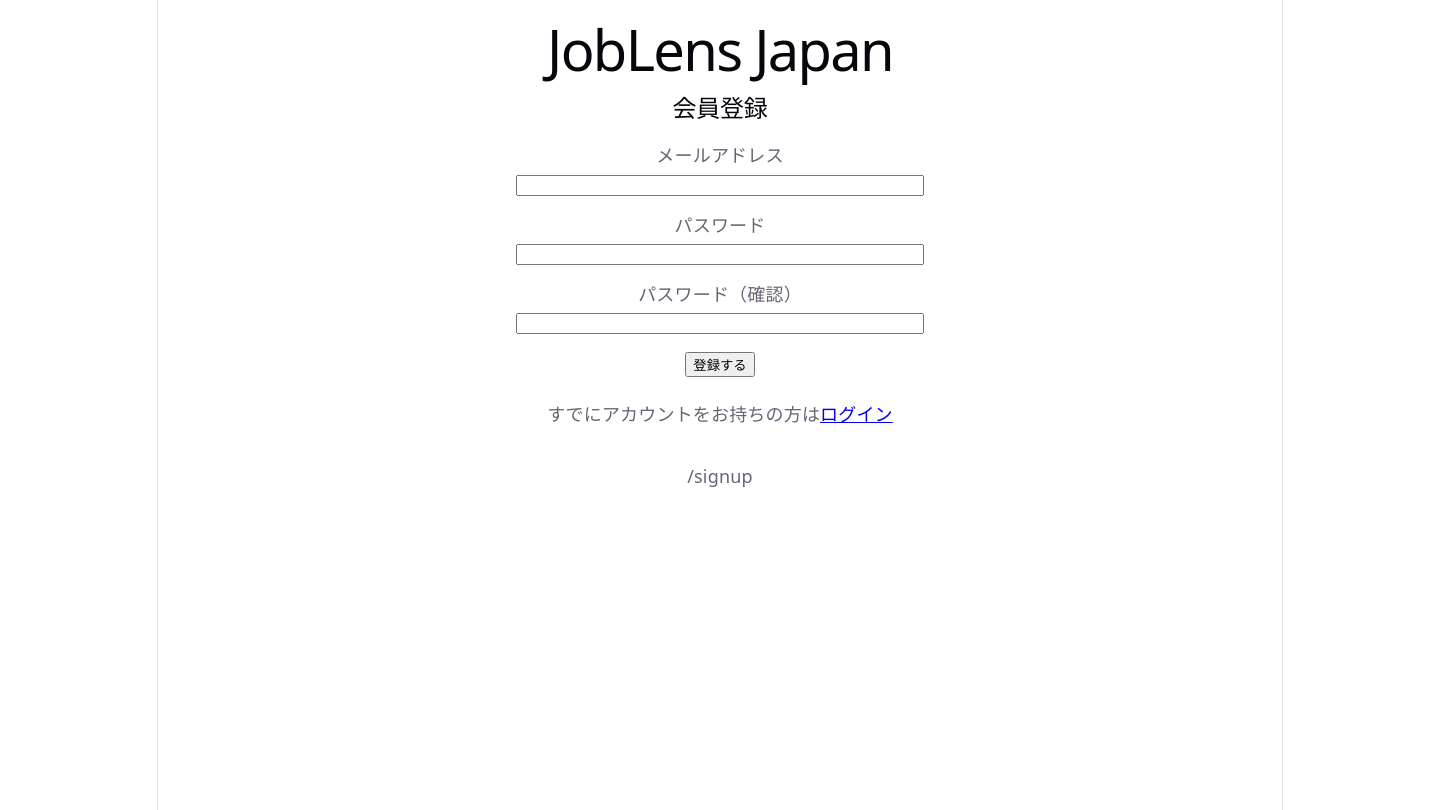
Test: 画面から通信までのつながり › 회원가입 화면에서 가입하면 실제 요청이 올바르게 나가고, 이후 요청에 새 사용자 ID가 붙는다
In the field labelled "メールアドレス": (720, 185) [516,174,924,196], type "new@example.com"
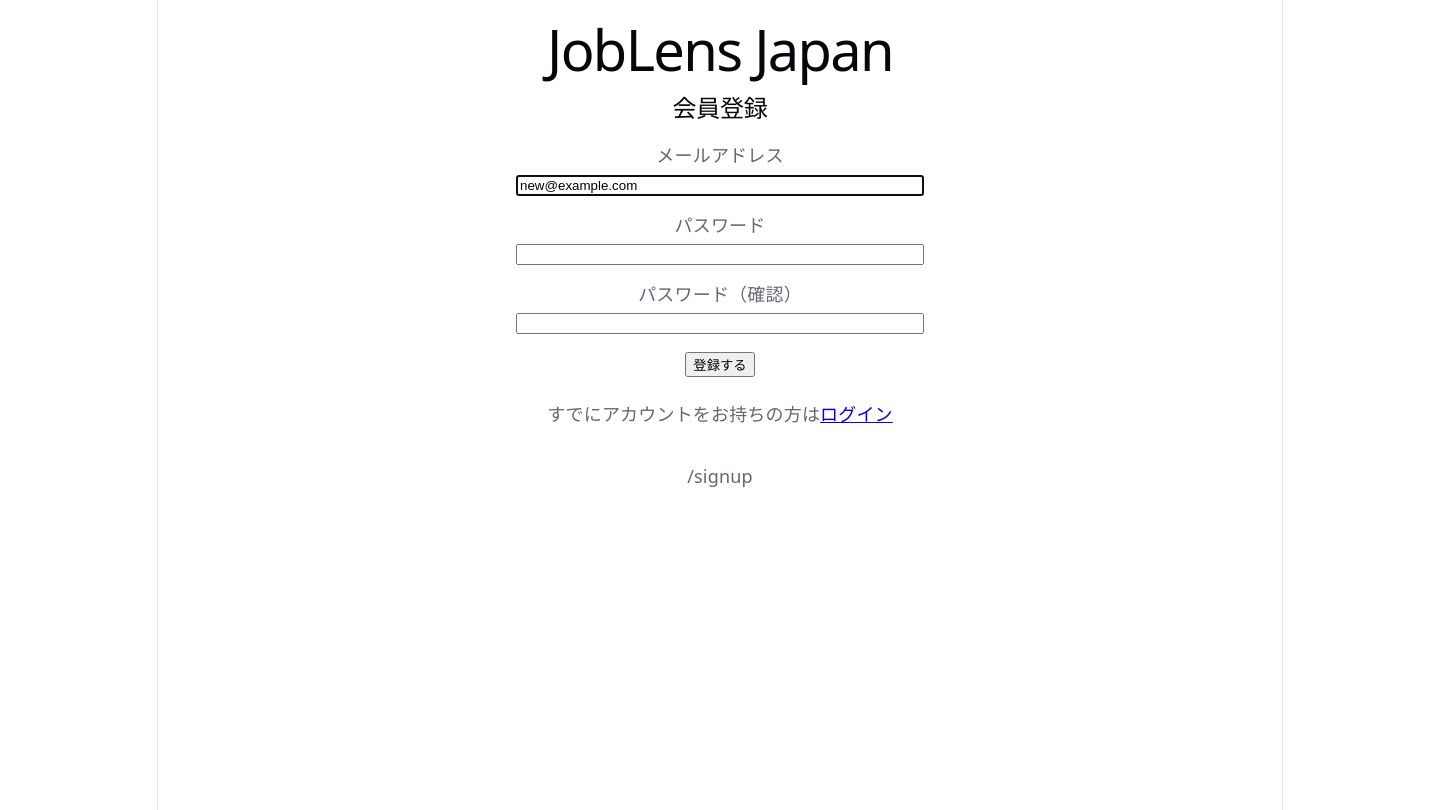
In the password field labelled "パスワード": (720, 254) [516,244,924,265], type "password123"
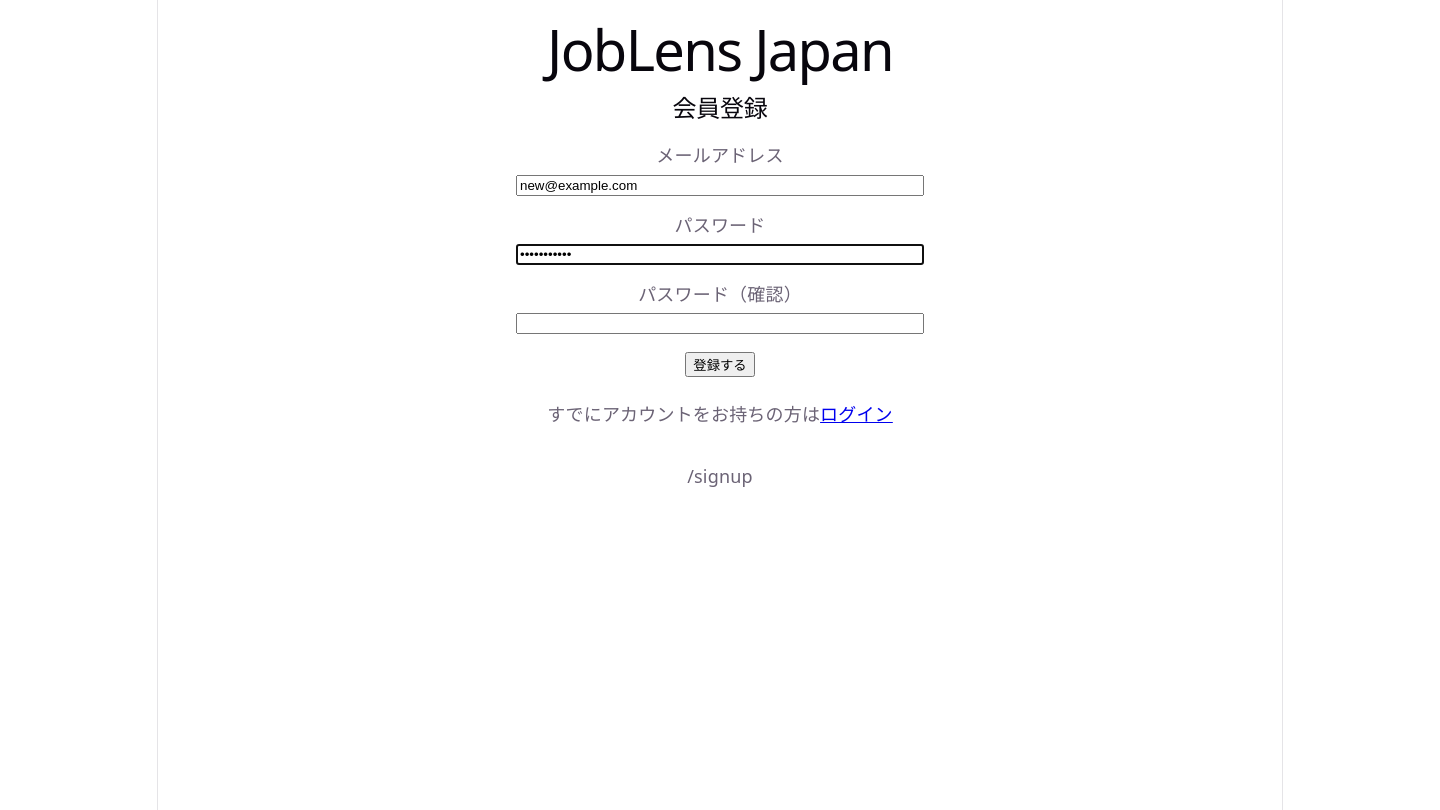
In the password field labelled "パスワード（確認）": (720, 323) [516,313,924,334], type "password123"
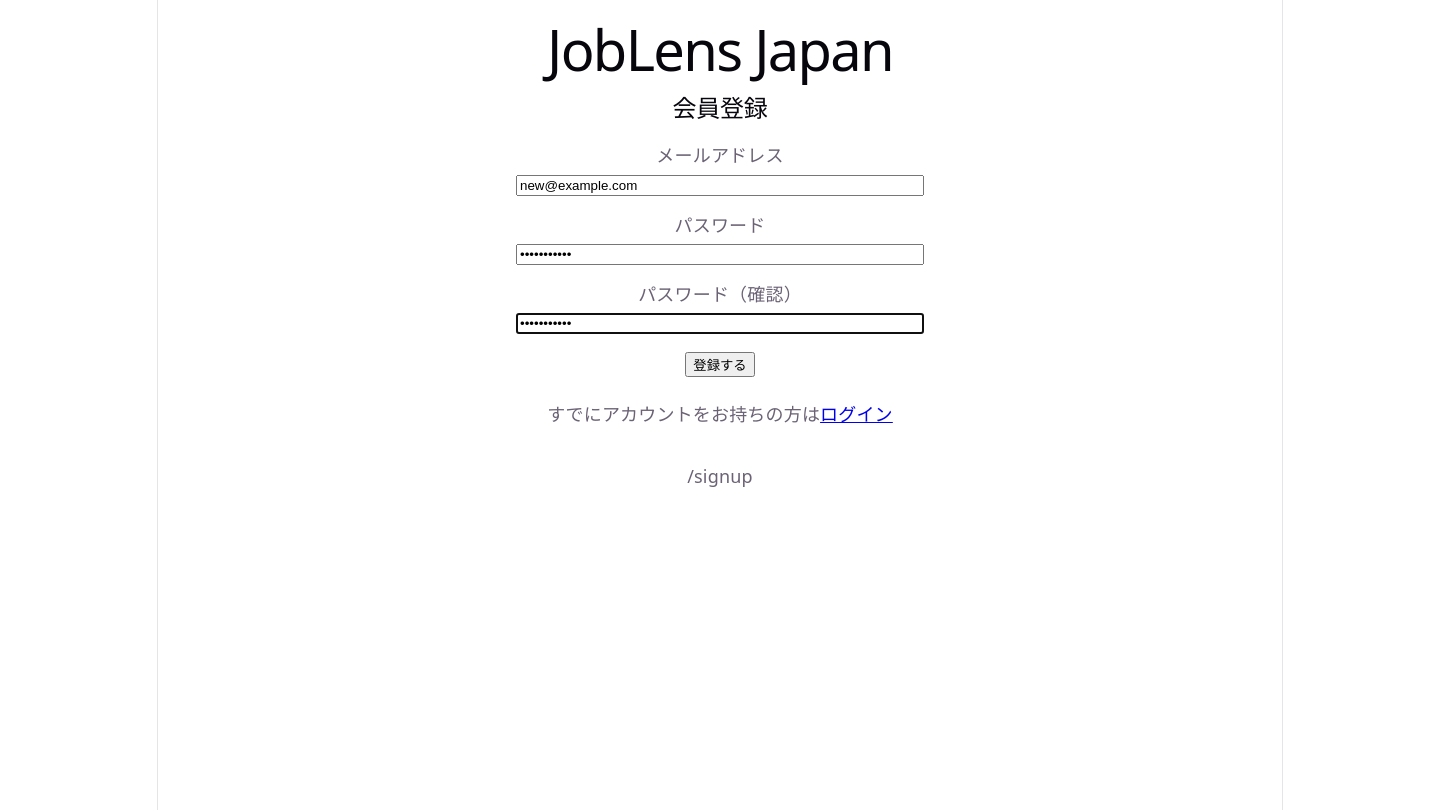
Click the button "登録する": (720, 364) [685,352,755,377]
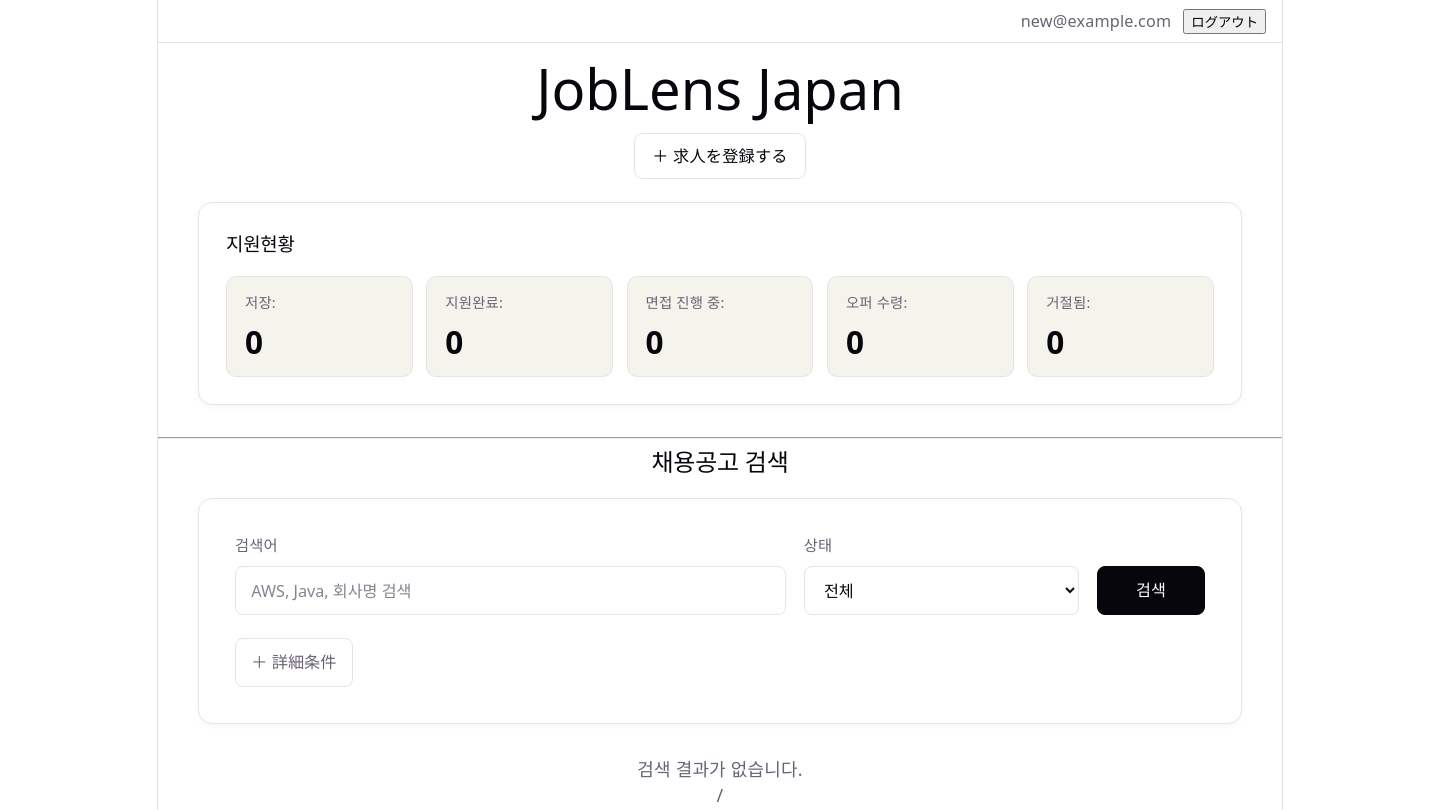
Result: the text with test id "location" reads "/" at [716,783,723,807]
